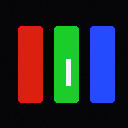4 line_v: (66, 59, 70, 85)
